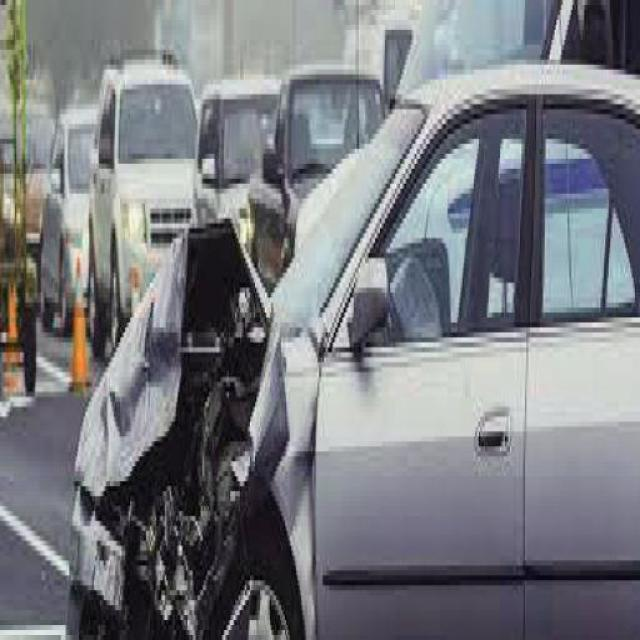car damage: (67, 225, 320, 640)
